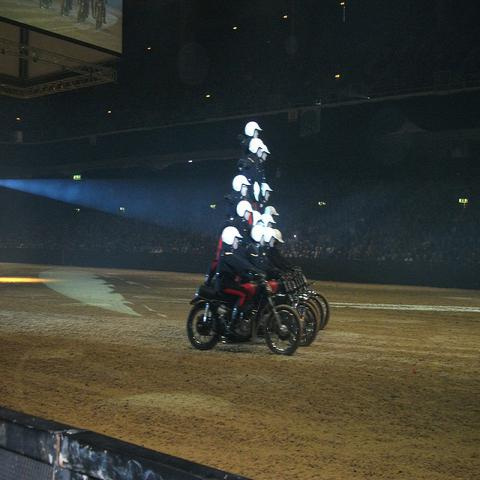motorcycle: (185, 273, 302, 354), (267, 270, 320, 348), (294, 266, 332, 330), (285, 268, 322, 330), (288, 271, 325, 327)
